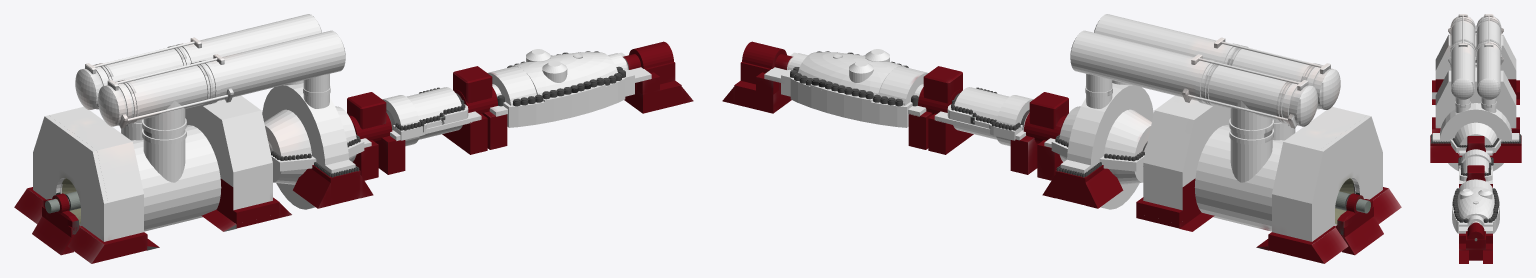
The model's file is turbine5United.obj.
3 renders of one model, left to right at view 1: azimuth 30°, elevation 25°; view 2: azimuth 150°, elevation 25°; view 3: azimuth 270°, elevation 25°, orthographic. The views are drawn at different scales.
Visible parts, largest first — view 1: Sphere.003; view 2: Sphere.003; view 3: Sphere.003.
Part boxes in pixels (x1,y1,x2,y2): Sphere.003: (14,14,693,263); Sphere.003: (722,14,1401,263); Sphere.003: (1430,14,1521,263).
Bounding box in the file's own units: 14.64 × 3.93 × 3.22.
1 material, 1 textured.
